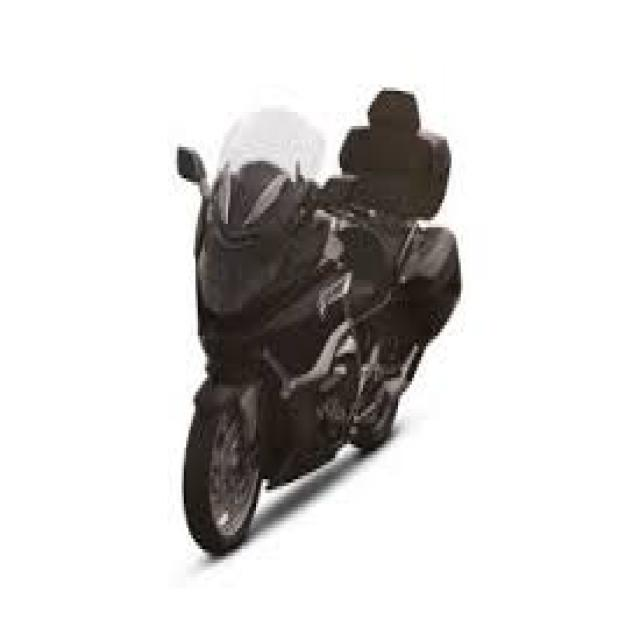Bike: (175, 80, 467, 557)
